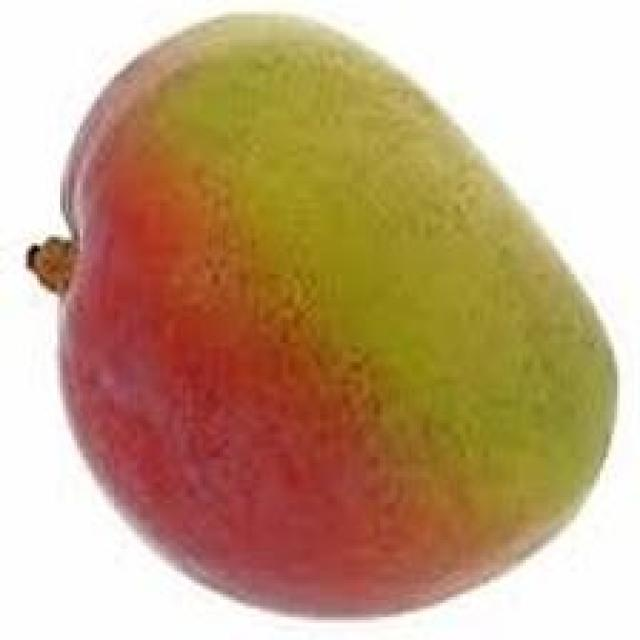Good_Mango: (26, 11, 623, 623)
